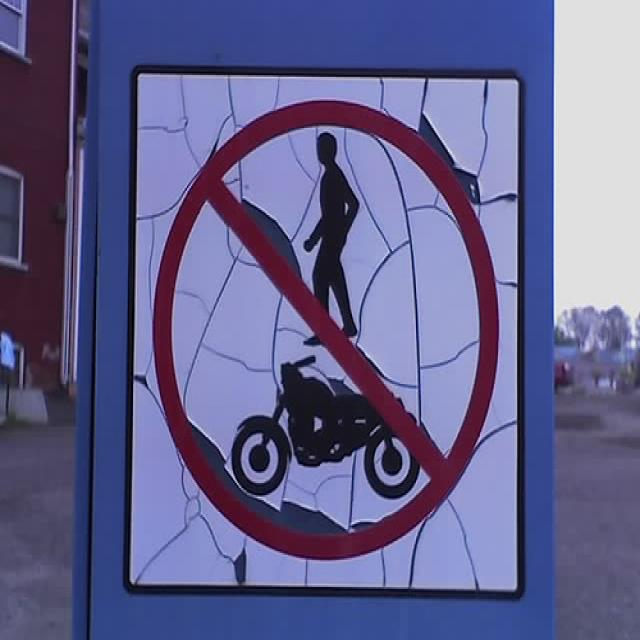motor: (232, 352, 420, 503)
